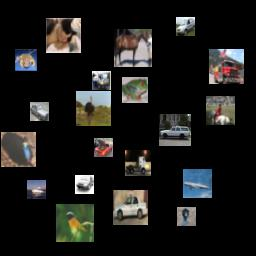airplane: (183, 169, 212, 198)
automobile: (113, 190, 148, 225), (159, 114, 191, 146), (176, 17, 195, 36), (75, 175, 94, 194), (94, 138, 113, 157), (30, 102, 49, 121)
bird: (56, 204, 94, 242), (76, 91, 111, 126), (1, 132, 36, 167), (177, 207, 196, 226)
cat: (46, 18, 81, 53)
frog: (122, 77, 148, 103), (15, 49, 37, 71)
ship: (27, 180, 46, 199)
truck: (209, 49, 244, 84), (125, 150, 151, 176), (92, 71, 111, 90)
